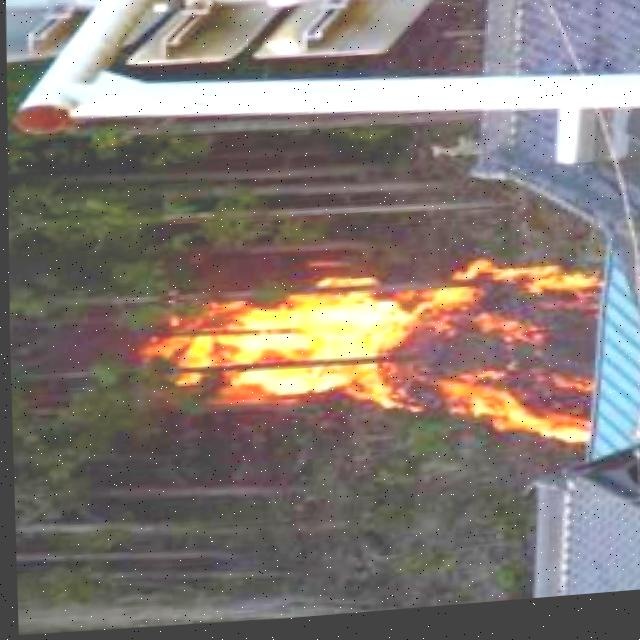Fire: (149, 251, 601, 479)
